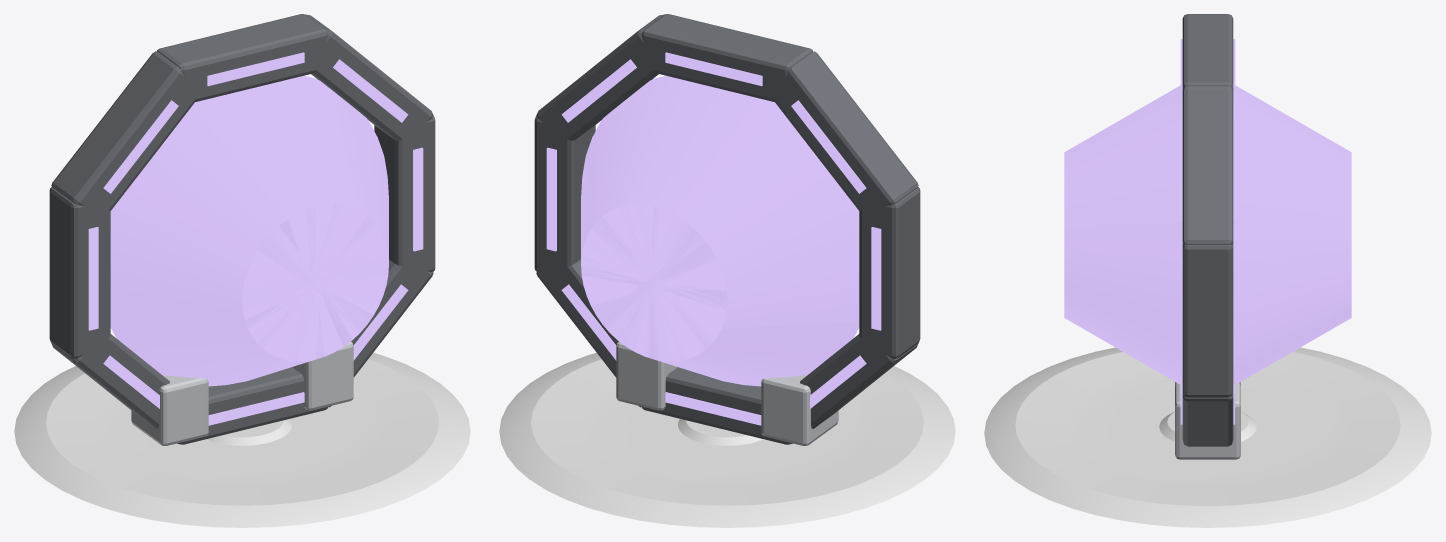
File: portal.glb
The picture shows the model from 3 angles, left to right: view 1: azimuth 30°, elevation 25°; view 2: azimuth 150°, elevation 25°; view 3: azimuth 270°, elevation 25°; orthographic projection.
Parts seen in each view (by area): view 1: Frame, Pad; view 2: Frame, Pad; view 3: Frame, Pad.
Boxes of the visible parts, x1=… form: Frame: x1=49, y1=14, x2=435, y2=445; Pad: x1=14, y1=353, x2=470, y2=527; Frame: x1=534, y1=14, x2=920, y2=445; Pad: x1=499, y1=353, x2=955, y2=527; Frame: x1=1064, y1=14, x2=1351, y2=459; Pad: x1=984, y1=347, x2=1431, y2=527.
Size of the model in its own units: 3 by 2.84 by 3.
